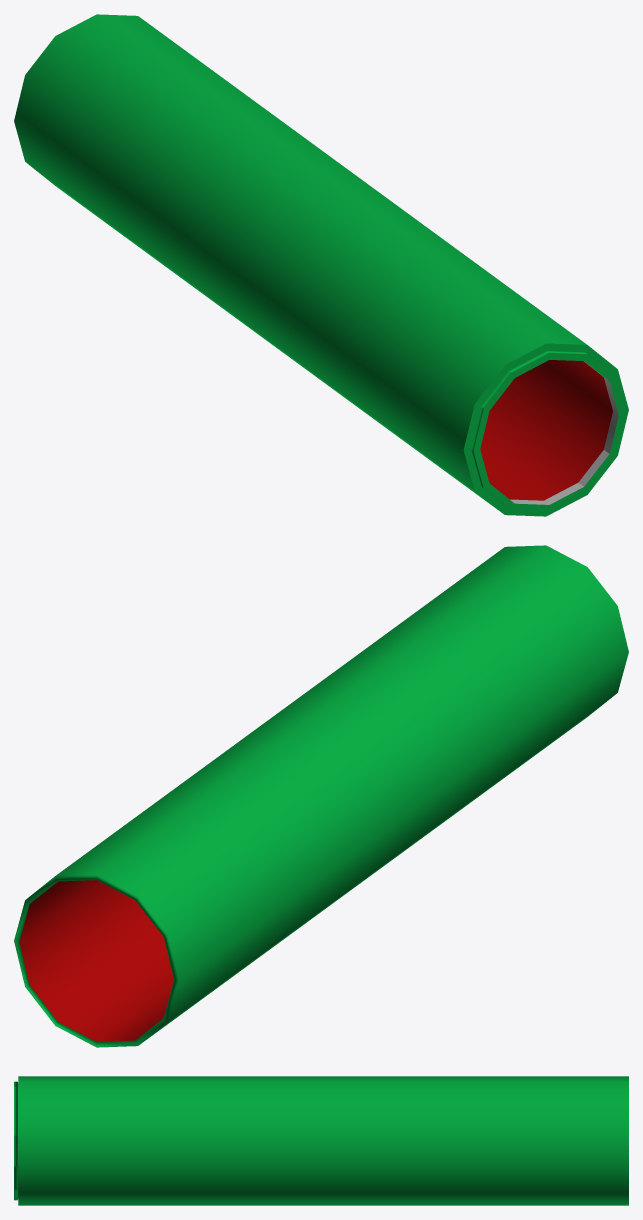
The model's file is tunnel_straight_uv_low_double_fix.fbx.
3 renders of one model, top to bottom at view 1: azimuth 30°, elevation 25°; view 2: azimuth 150°, elevation 25°; view 3: azimuth 270°, elevation 25°, orthographic. The views are drawn at different scales.
Visible parts, largest first — view 1: Lowpoly-tunnel_straight_2_double; view 2: Lowpoly-tunnel_straight_2_double; view 3: Lowpoly-tunnel_straight_2_double.
Part boxes in pixels (box(x1,y1,x2,y2)): Lowpoly-tunnel_straight_2_double: box(14, 14, 628, 516); Lowpoly-tunnel_straight_2_double: box(14, 545, 628, 1047); Lowpoly-tunnel_straight_2_double: box(14, 1076, 628, 1205).
Bounding box in the file's own units: 3207 × 3207 × 15209.
